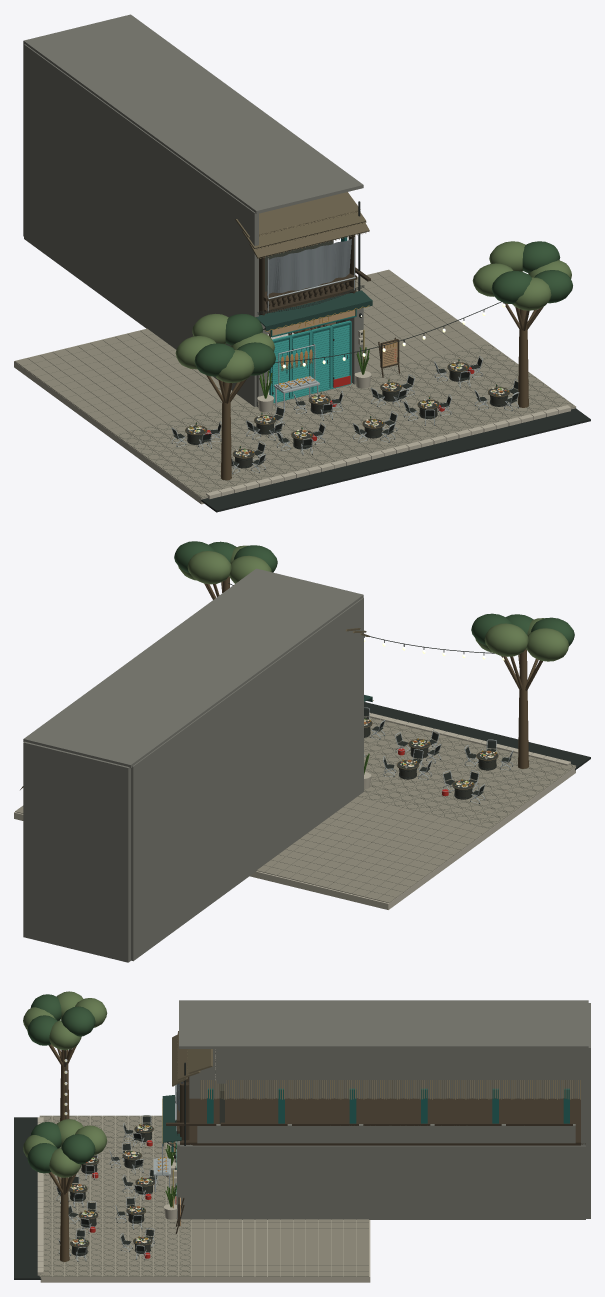
The model's file is seven-kho.glb.
The picture shows the model from 3 angles, top to bottom: view 1: azimuth 30°, elevation 25°; view 2: azimuth 150°, elevation 25°; view 3: azimuth 270°, elevation 25°; orthographic projection. The views are drawn at different scales.
Visible parts, largest first — view 1: seven-kho-pavement-tile, seven-kho-shell-plaster, seven-kho-roof-plaster, seven-kho-pavement-grout, seven-kho-pavement-iron, seven-kho-street-details-leafLight, seven-kho-street-details-leaf, seven-kho-roof-thatch, seven-kho-shutters-shutter, seven-kho-pavement-stone, seven-kho-shell-screen, seven-kho-dining-table (+9 smaller); view 2: seven-kho-shell-plaster, seven-kho-roof-plaster, seven-kho-pavement-tile, seven-kho-street-details-leafLight, seven-kho-pavement-stone, seven-kho-pavement-grout, seven-kho-street-details-leaf, seven-kho-pavement-iron, seven-kho-street-details-bark, seven-kho-dining-table, seven-kho-dining-metal, seven-kho-dining-chair; view 3: seven-kho-shell-plaster, seven-kho-pavement-tile, seven-kho-roof-plaster, seven-kho-shell-timber, seven-kho-roof-thatch, seven-kho-pavement-stone, seven-kho-pavement-grout, seven-kho-street-details-leaf, seven-kho-pavement-iron, seven-kho-street-details-leafLight, seven-kho-street-details-bark, seven-kho-dining-table (+6 smaller).
Boxes of the visible parts, bbox=[...] form: seven-kho-pavement-tile: bbox=[15, 270, 575, 498]; seven-kho-shell-plaster: bbox=[23, 44, 363, 407]; seven-kho-roof-plaster: bbox=[23, 14, 363, 213]; seven-kho-pavement-grout: bbox=[119, 345, 572, 496]; seven-kho-pavement-iron: bbox=[201, 408, 590, 512]; seven-kho-street-details-leafLight: bbox=[175, 241, 571, 383]; seven-kho-street-details-leaf: bbox=[194, 241, 572, 376]; seven-kho-roof-thatch: bbox=[235, 192, 369, 258]; seven-kho-shutters-shutter: bbox=[269, 320, 351, 403]; seven-kho-pavement-stone: bbox=[14, 269, 575, 504]; seven-kho-shell-screen: bbox=[267, 239, 351, 295]; seven-kho-dining-table: bbox=[185, 362, 509, 468]; seven-kho-shell-plaster: bbox=[23, 597, 363, 962]; seven-kho-roof-plaster: bbox=[23, 568, 363, 768]; seven-kho-pavement-tile: bbox=[15, 716, 575, 902]; seven-kho-street-details-leafLight: bbox=[178, 545, 568, 661]; seven-kho-pavement-stone: bbox=[14, 712, 575, 909]; seven-kho-pavement-grout: bbox=[359, 718, 572, 827]; seven-kho-street-details-leaf: bbox=[174, 541, 574, 645]; seven-kho-pavement-iron: bbox=[364, 702, 590, 770]; seven-kho-street-details-bark: bbox=[204, 576, 542, 768]; seven-kho-dining-table: bbox=[364, 719, 498, 799]; seven-kho-dining-metal: bbox=[364, 707, 513, 803]; seven-kho-dining-chair: bbox=[364, 709, 512, 795]; seven-kho-shell-plaster: bbox=[177, 1003, 590, 1219]; seven-kho-pavement-tile: bbox=[39, 1115, 368, 1276]; seven-kho-roof-plaster: bbox=[179, 1000, 588, 1048]; seven-kho-shell-timber: bbox=[166, 1077, 585, 1145]; seven-kho-roof-thatch: bbox=[172, 1031, 580, 1099]; seven-kho-pavement-stone: bbox=[37, 1116, 370, 1282]; seven-kho-pavement-grout: bbox=[40, 1116, 190, 1275]; seven-kho-street-details-leaf: bbox=[27, 994, 95, 1173]; seven-kho-pavement-iron: bbox=[14, 1117, 41, 1279]; seven-kho-street-details-leafLight: bbox=[23, 991, 107, 1177]; seven-kho-street-details-bark: bbox=[49, 1044, 76, 1261]; seven-kho-dining-table: bbox=[69, 1125, 154, 1256].
Size of the model in its own units: 15.6 by 7.78 by 22.74.
